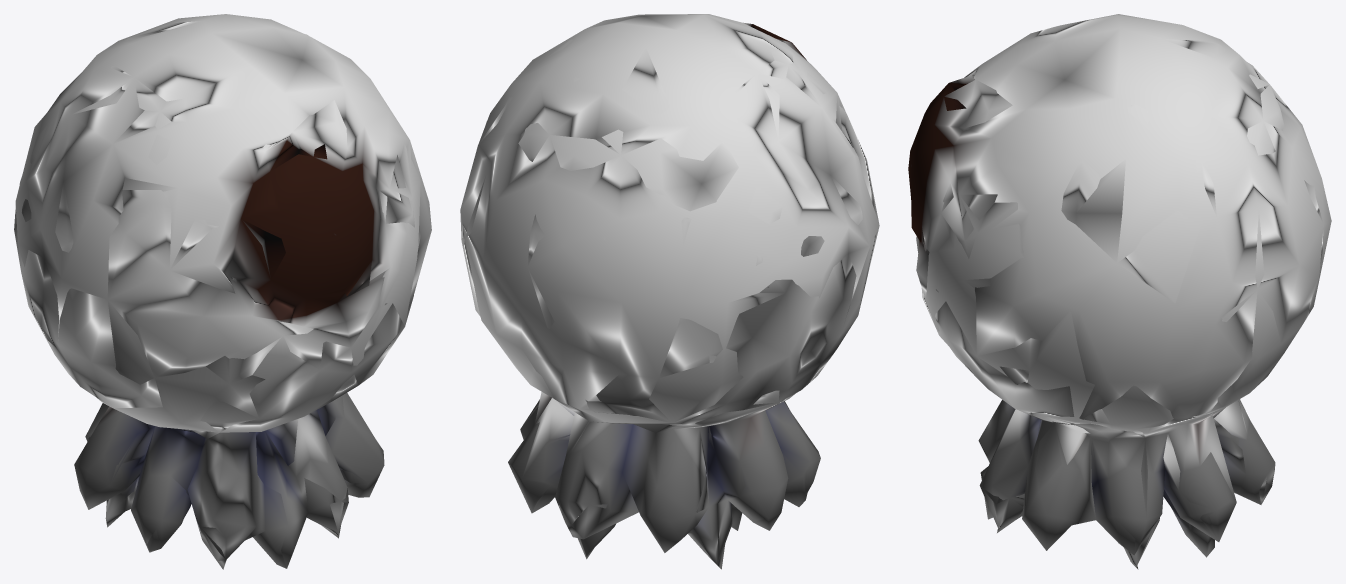
Rendered from gen3d-floating-eye-lod0.glb.
3 views of the same model, side by side, from view 1: azimuth 30°, elevation 25°; view 2: azimuth 150°, elevation 25°; view 3: azimuth 270°, elevation 25° (orthographic).
Parts seen in each view (by area): view 1: part_0; view 2: part_0; view 3: part_0.
Part boxes in pixels (left/top/right/bottom): part_0: left=14, top=14, right=431, bottom=569; part_0: left=460, top=14, right=879, bottom=569; part_0: left=908, top=14, right=1331, bottom=569.
Bounding box in the file's own units: 0.75 × 1 × 0.7581.
